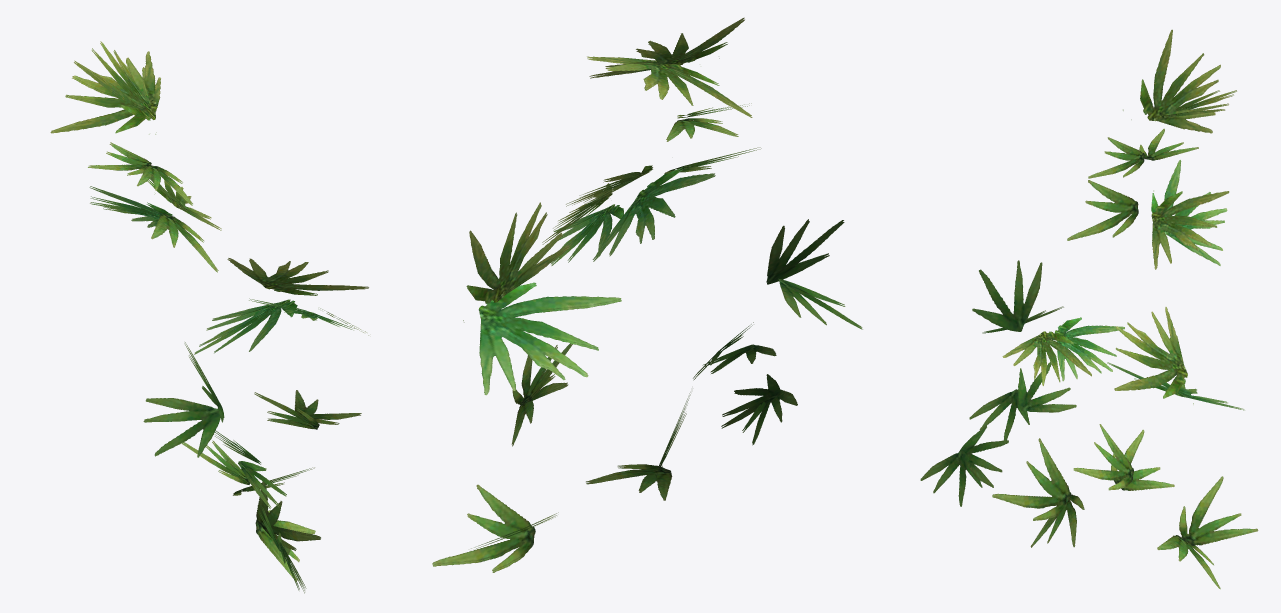
The model's file is Area_11_42.fbx.
The picture shows the model from 3 angles, left to right: view 1: azimuth 30°, elevation 25°; view 2: azimuth 150°, elevation 25°; view 3: azimuth 270°, elevation 25°; orthographic projection. The views are drawn at different scales.
Parts seen in each view (by area): view 1: Area_11_42; view 2: Area_11_42; view 3: Area_11_42.
Part boxes in pixels (x1=…): Area_11_42: x1=50, y1=41, x2=368, y2=593; Area_11_42: x1=432, y1=17, x2=862, y2=572; Area_11_42: x1=920, y1=29, x2=1258, y2=589.
Size of the model in its own units: 433 by 713 by 470.
